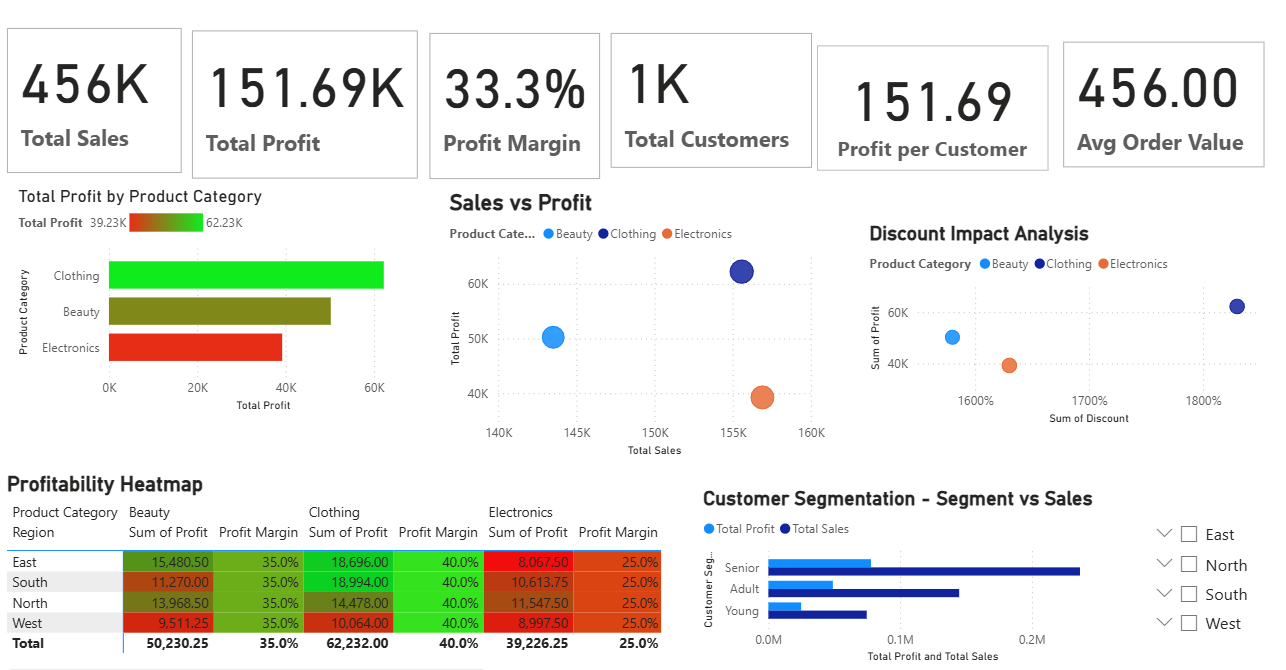

This screenshot's page, from the dashboard's own definition file:
{"tool":"powerbi","page":{"name":"Page 1","canvas":[1280,720],"ordinal":0},"visuals":[{"type":"cardVisual","title":"Total Sales","fields":{"Data":["retail_sales_dataset.Total Sales"]},"box":[10,63.8,181.2,152.5],"z":0},{"type":"cardVisual","title":"Total Profit","fields":{"Data":["retail_sales_dataset.Total Profit"]},"box":[191.2,66.2,231.2,155],"z":1000},{"type":"cardVisual","title":"Profit Margin","fields":{"Data":["retail_sales_dataset.Profit Margin"]},"box":[422.5,68.8,177.5,153.8],"z":2000},{"type":"cardVisual","title":"Total Customers","fields":{"Data":["retail_sales_dataset.Total Customers"]},"box":[600,68.8,207.5,142.5],"z":3000},{"type":"pivotTable","title":"Profitability Heatmap","fields":{"Columns":["retail_sales_dataset.Product Category"],"Values":["Sum(retail_sales_dataset.Profit)","retail_sales_dataset.Profit Margin"],"Rows":["retail_sales_dataset.Region"]},"box":[10.2,502.5,650,206.8],"z":6000},{"type":"cardVisual","title":"Avg Order Value","fields":{"Data":["retail_sales_dataset.Avg Order Value"]},"box":[1042.5,77.5,207.5,133.8],"z":7000},{"type":"card","title":"Profit per Customer","fields":{"Values":["retail_sales_dataset.Profit per Customer"]},"box":[807.5,85,226.2,122.5],"z":8000},{"type":"scatterChart","title":"Sales  vs Profit","fields":{"X":["retail_sales_dataset.Total Sales"],"Y":["retail_sales_dataset.Total Profit"],"Size":["retail_sales_dataset.Total Customers"],"Series":["retail_sales_dataset.Product Category"]},"box":[442.5,226.2,377.5,266.2],"z":9000},{"type":"clusteredBarChart","fields":{"Y":["retail_sales_dataset.Total Profit"],"Category":["retail_sales_dataset.Product Category"]},"box":[21.2,222.5,411.2,226.2],"z":9001},{"type":"scatterChart","title":"Discount Impact Analysis","fields":{"X":["Sum(retail_sales_dataset.Discount)"],"Y":["Sum(retail_sales_dataset.Profit)"],"Size":["retail_sales_dataset.Total Sales"],"Series":["retail_sales_dataset.Product Category"]},"box":[853.8,257.5,410,203.8],"z":9002},{"type":"clusteredBarChart","title":"Customer Segmentation - Segment vs Sales","fields":{"Y":["retail_sales_dataset.Total Profit","retail_sales_dataset.Total Sales"],"Category":["retail_sales_dataset.Customer Segment"]},"box":[691.2,517.5,410,177.5],"z":9003},{"type":"slicer","fields":{"Values":["retail_sales_dataset.Region","retail_sales_dataset.Product Category","retail_sales_dataset.Gender"]},"box":[1126.2,543.8,137.5,125],"z":9004}]}

Visuals, with their boxes on the page's 1280x720 design canvas (x1, y1, x2, y2). These are canvas units, not pixel positions in the 1286x670 screenshot, which may show the page scaled, cropped or inside an application window:
"Total Sales" cardVisual: region(10, 64, 191, 216)
"Total Profit" cardVisual: region(191, 66, 422, 221)
"Profit Margin" cardVisual: region(422, 69, 600, 223)
"Total Customers" cardVisual: region(600, 69, 808, 211)
"Profitability Heatmap" pivotTable: region(10, 502, 660, 709)
"Avg Order Value" cardVisual: region(1042, 78, 1250, 211)
"Profit per Customer" card: region(808, 85, 1034, 208)
"Sales  vs Profit" scatterChart: region(442, 226, 820, 492)
clusteredBarChart - retail_sales_dataset.Total Profit x retail_sales_dataset.Product Category: region(21, 222, 432, 449)
"Discount Impact Analysis" scatterChart: region(854, 258, 1264, 461)
"Customer Segmentation - Segment vs Sales" clusteredBarChart: region(691, 518, 1101, 695)
slicer - retail_sales_dataset.Region x retail_sales_dataset.Product Category: region(1126, 544, 1264, 669)
